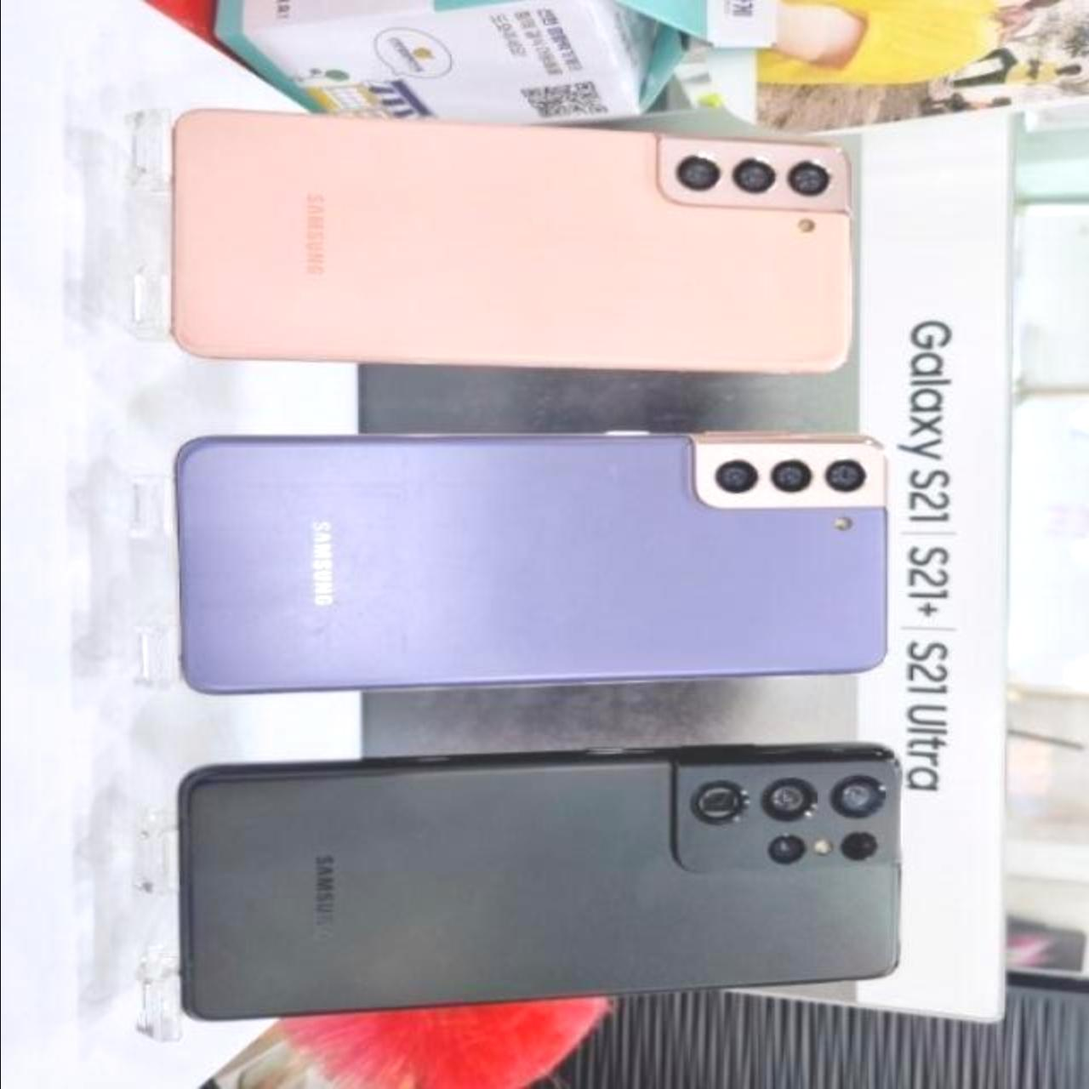phone: (170, 747, 912, 1029), (170, 429, 897, 706), (172, 107, 858, 371)
